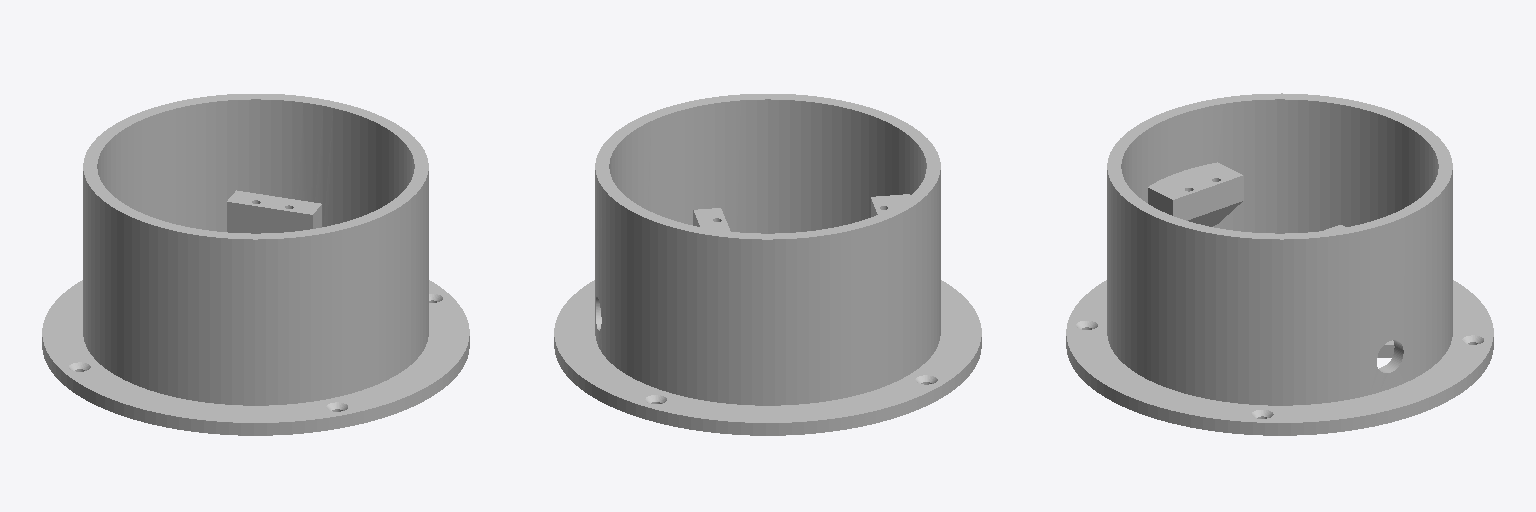
3 renders of one model, left to right at view 1: azimuth 30°, elevation 25°; view 2: azimuth 150°, elevation 25°; view 3: azimuth 270°, elevation 25°, orthographic.
Visible parts, largest first — view 1: fabconvert.com_base.002; view 2: fabconvert.com_base.002; view 3: fabconvert.com_base.002.
Boxes of the visible parts, x1=… form: fabconvert.com_base.002: x1=42, y1=94, x2=469, y2=435; fabconvert.com_base.002: x1=554, y1=94, x2=981, y2=435; fabconvert.com_base.002: x1=1066, y1=93, x2=1493, y2=435.
Size of the model in its own units: 1.53 by 0.706 by 1.53.